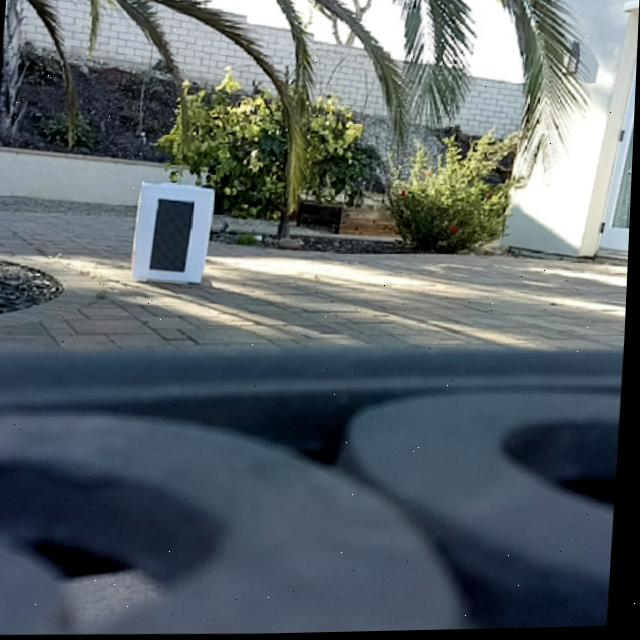led: (151, 197, 195, 275)
